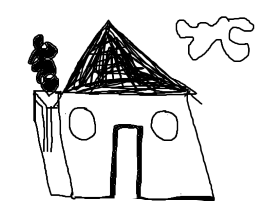clouds: (167, 1, 260, 66)
door: (99, 119, 154, 202)
open_window: (61, 103, 103, 146), (146, 103, 184, 147)
shaded_roof: (54, 12, 202, 98)
smoking_chimney: (18, 30, 74, 126)
wall: (56, 89, 215, 208)
